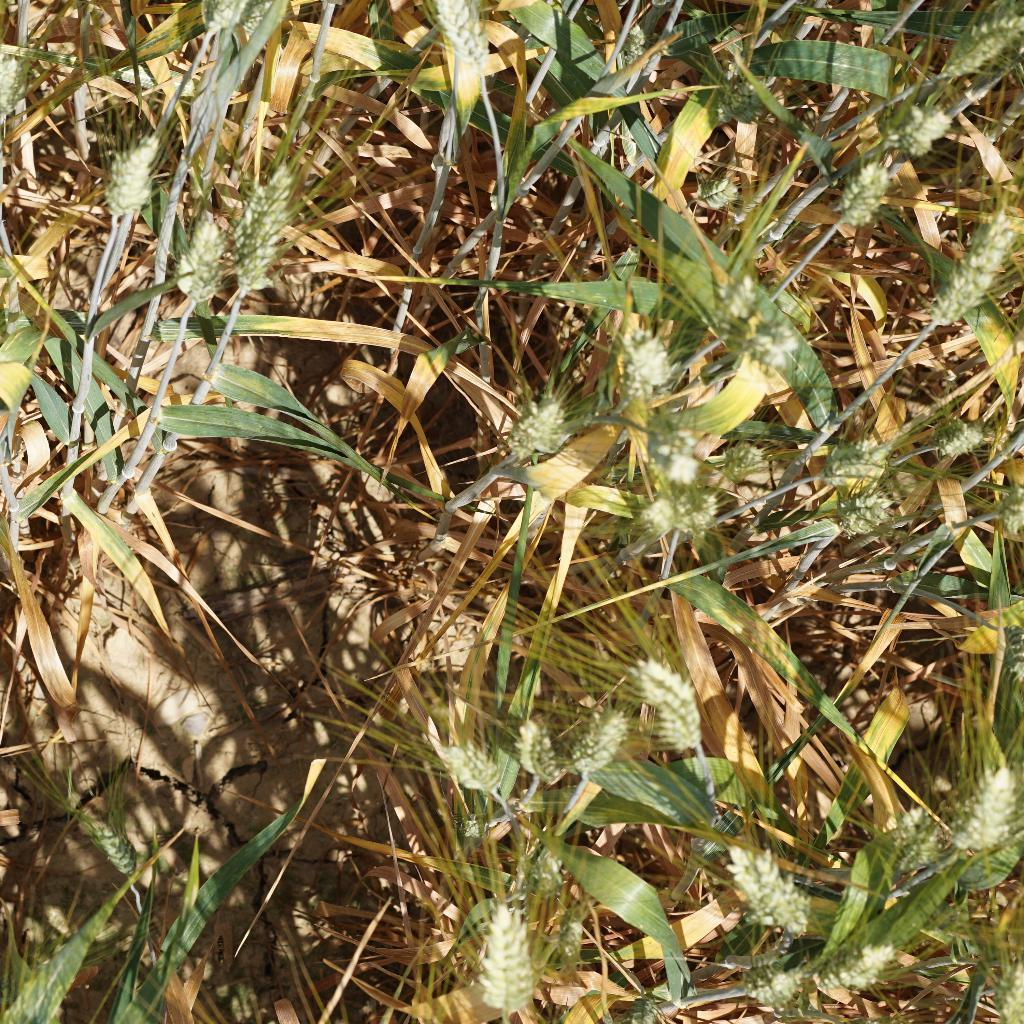0-0: (905, 202, 1017, 339), (459, 889, 548, 1023), (217, 153, 306, 286), (713, 828, 813, 946), (945, 740, 1024, 849), (632, 646, 708, 757), (494, 380, 585, 470), (933, 7, 1024, 89), (421, 718, 509, 798), (97, 115, 154, 227), (819, 154, 904, 227), (171, 212, 230, 316), (557, 698, 626, 785), (828, 923, 908, 998), (0, 937, 80, 1012), (636, 471, 721, 538), (638, 410, 710, 489), (740, 311, 823, 376), (690, 258, 762, 332), (838, 485, 911, 557), (829, 430, 912, 492), (925, 402, 998, 468), (616, 314, 679, 389), (93, 796, 152, 875), (879, 803, 943, 874), (422, 0, 481, 77), (516, 701, 570, 784), (882, 96, 956, 153), (744, 948, 819, 1004), (709, 72, 784, 123), (510, 846, 572, 905), (716, 426, 776, 482), (547, 902, 587, 977), (986, 946, 1024, 1024), (198, 0, 276, 38), (609, 16, 666, 67), (0, 40, 33, 127), (690, 169, 737, 224), (445, 806, 498, 843), (619, 988, 659, 1024)
